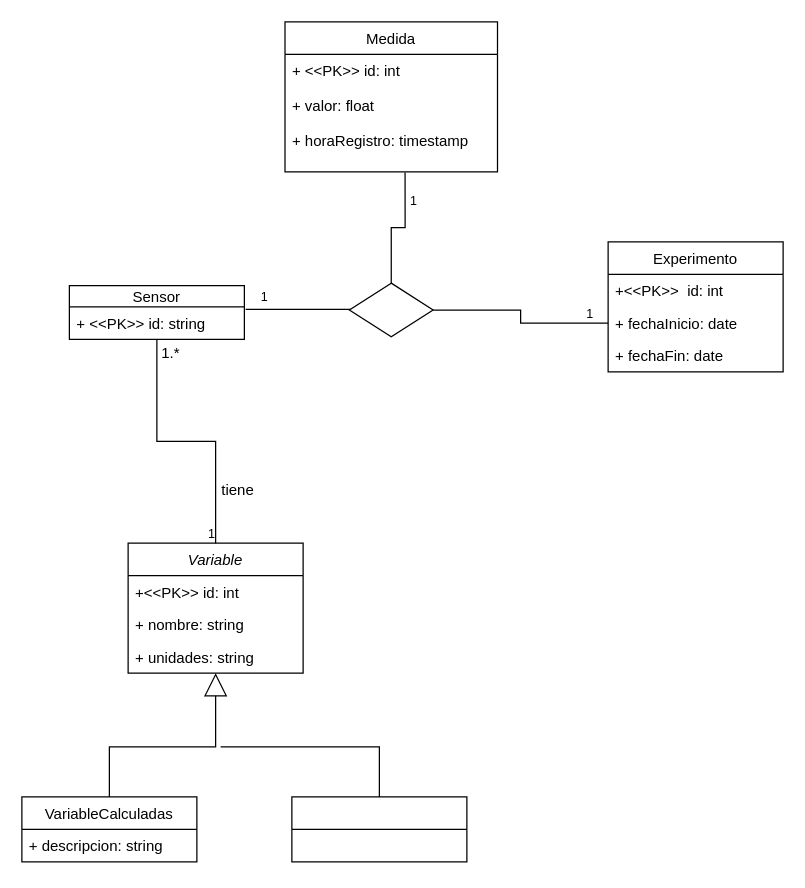
Image size: 805x888. Some labels were removed from this diagram. The shapes that lost their labels are listed below. From the top down, each one's centre as x and y in pixels, then its label:
At point 390,309: "contiene".
At point 379,829: "VariableSimple".
